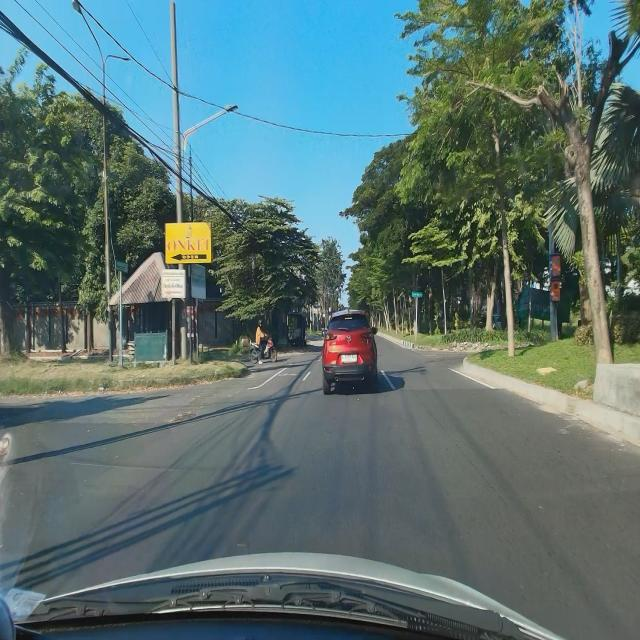car: (321, 305, 379, 395)
license-plate: (341, 353, 357, 363)
